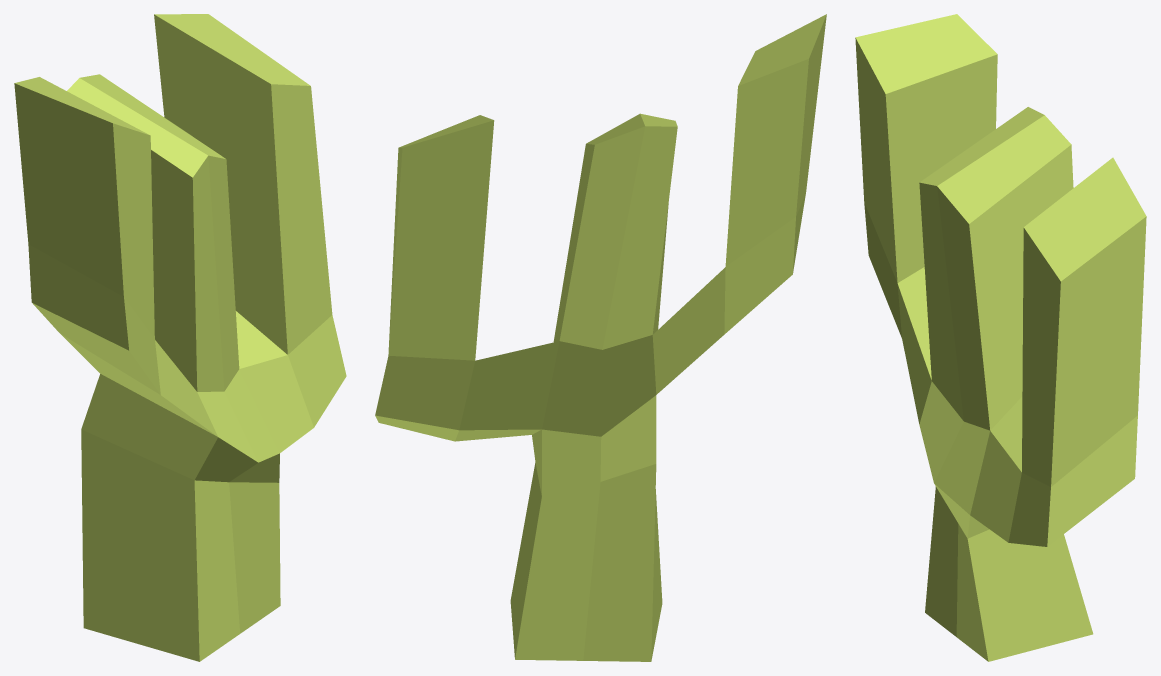
The model's file is Cactus_2.glb.
The picture shows the model from 3 angles, left to right: view 1: azimuth 30°, elevation 25°; view 2: azimuth 150°, elevation 25°; view 3: azimuth 270°, elevation 25°; orthographic projection. The views are drawn at different scales.
Parts seen in each view (by area): view 1: Cactus_2; view 2: Cactus_2; view 3: Cactus_2.
Part boxes in pixels (x1,y1,x2,y2): Cactus_2: [14, 14, 346, 661]; Cactus_2: [375, 14, 826, 661]; Cactus_2: [855, 14, 1146, 661].
Bounding box in the file's own units: 3.88 × 5.85 × 2.92.
